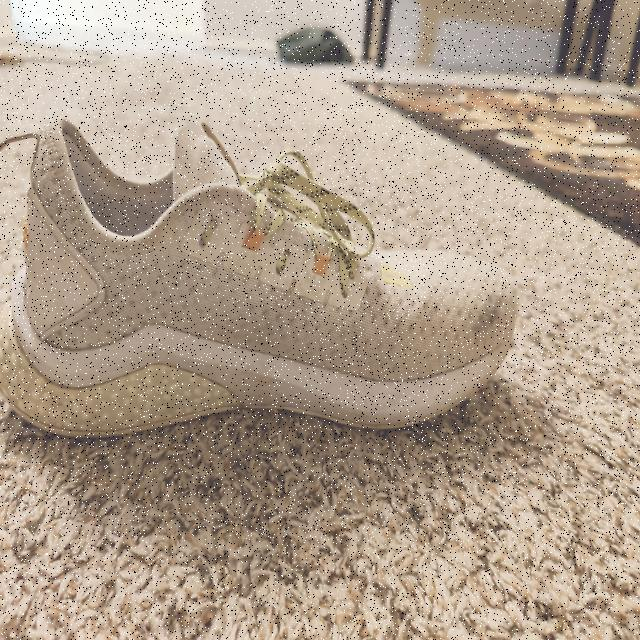white shoes: (31, 192, 345, 418)
